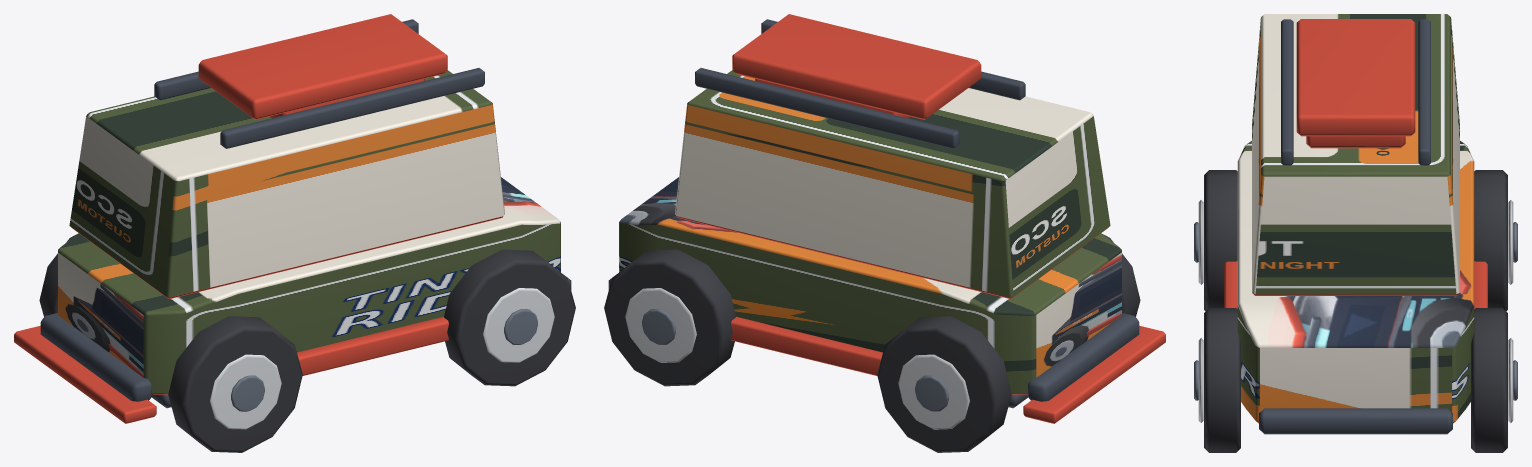
The picture shows the model from 3 angles, left to right: view 1: azimuth 30°, elevation 25°; view 2: azimuth 150°, elevation 25°; view 3: azimuth 270°, elevation 25°; orthographic projection. The views are drawn at different scales.
Visible parts, largest first — view 1: DP-05_cabin, DP-05_connected_shell, utility load, Tire, Tire.002, utility rail, custom side guard, custom chin, front bumper, Rim, Rim.002, utility rail.001 (+3 smaller); view 2: DP-05_cabin, DP-05_connected_shell, utility load, Tire.001, Tire.003, utility rail.001, custom side guard.001, custom chin, front bumper, Rim.001, Rim.003, utility rail (+3 smaller); view 3: DP-05_cabin, DP-05_connected_shell, utility load, Tire.002, Tire.003, rear bumper, Tire, Tire.001, utility rail, utility rail.001, custom equipment, custom side guard (+5 smaller).
Boxes of the visible parts, x1,y1,x2,y2 form: DP-05_cabin: [69, 70, 504, 298]; DP-05_connected_shell: [58, 177, 560, 394]; utility load: [198, 14, 447, 119]; Tire: [168, 316, 302, 452]; Tire.002: [444, 249, 575, 386]; utility rail: [220, 68, 484, 148]; custom side guard: [297, 316, 448, 375]; custom chin: [14, 325, 156, 423]; front bumper: [40, 313, 152, 401]; Rim: [210, 354, 281, 429]; Rim.002: [483, 288, 554, 362]; utility rail.001: [154, 19, 418, 100]; DP-05_cabin: [675, 70, 1110, 298]; DP-05_connected_shell: [619, 177, 1121, 394]; utility load: [732, 14, 981, 119]; Tire.001: [877, 316, 1011, 452]; Tire.003: [604, 249, 735, 386]; utility rail.001: [695, 68, 959, 148]; custom side guard.001: [731, 316, 882, 375]; custom chin: [1023, 325, 1165, 423]; front bumper: [1027, 313, 1139, 401]; Rim.001: [898, 354, 969, 429]; Rim.003: [625, 288, 696, 362]; utility rail: [761, 19, 1025, 100]; DP-05_cabin: [1252, 14, 1459, 295]; DP-05_connected_shell: [1237, 141, 1474, 423]; utility load: [1296, 19, 1415, 136]; Tire.002: [1204, 308, 1240, 452]; Tire.003: [1471, 308, 1507, 452]; rear bumper: [1259, 408, 1452, 434]; Tire: [1204, 170, 1237, 311]; Tire.001: [1474, 170, 1507, 311]; utility rail: [1281, 19, 1293, 165]; utility rail.001: [1418, 19, 1430, 165]; custom equipment: [1306, 136, 1405, 148]; custom side guard: [1224, 261, 1237, 308].
Size of the model in its own units: 384 by 247 by 227.
